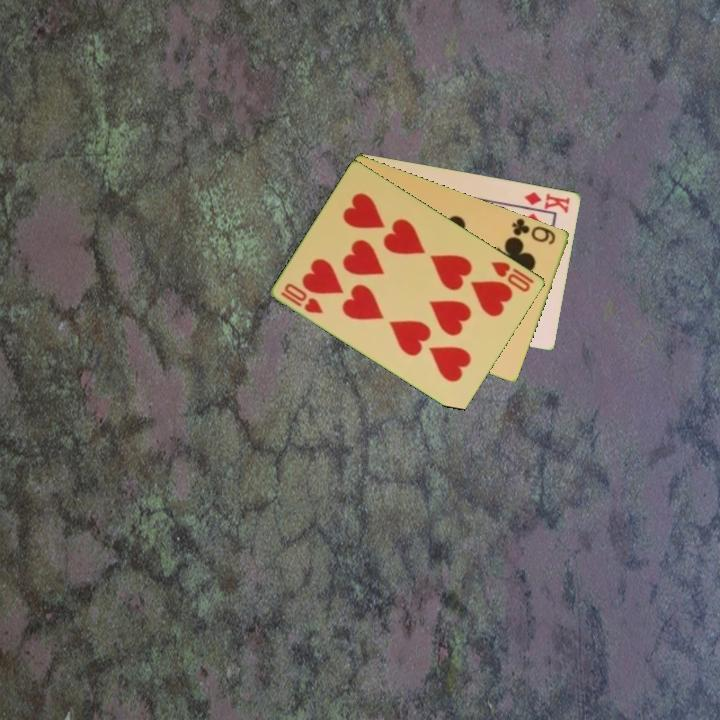10h: (488, 258, 538, 295), (277, 279, 326, 316)
6c: (508, 214, 559, 247)
Kd: (521, 188, 573, 216)
